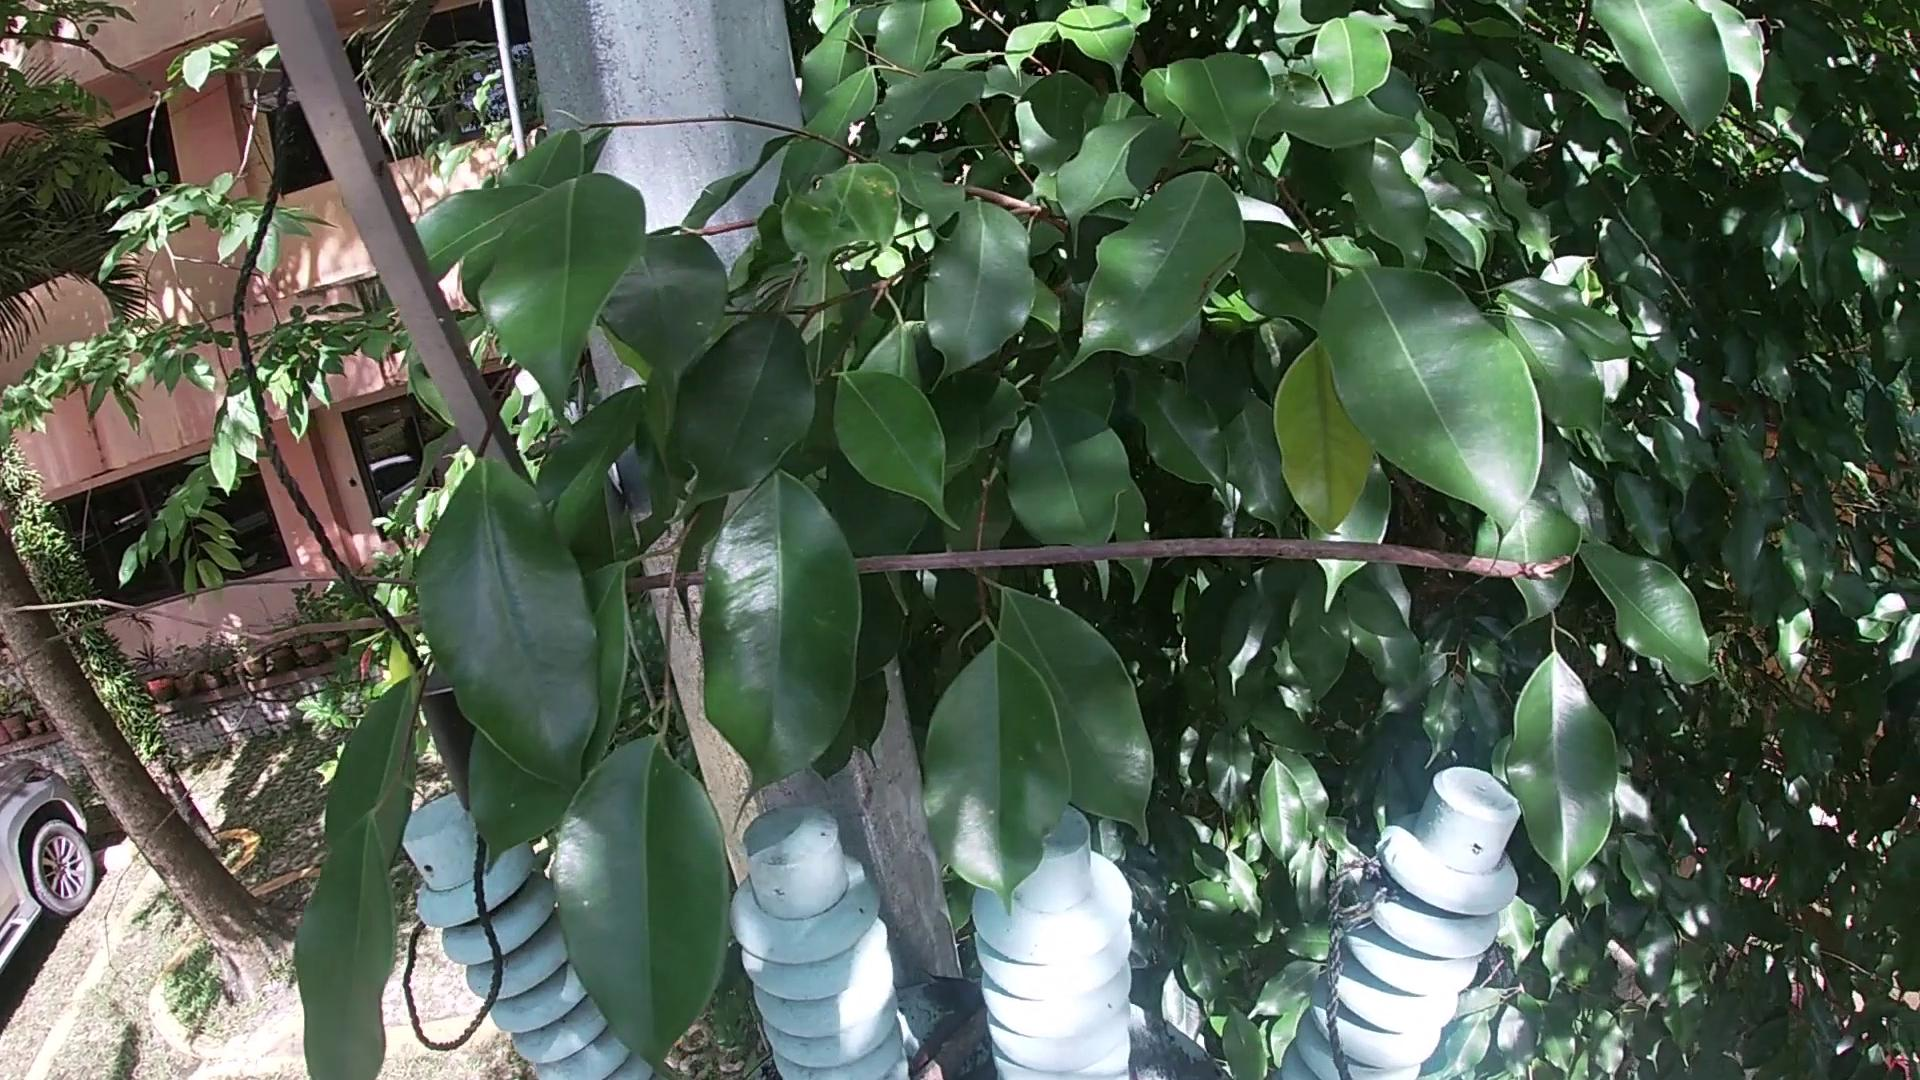leaf: (919, 1010, 963, 1058), (923, 968, 969, 992)
tree branch: (1, 517, 1588, 986), (913, 1000, 990, 1080)
